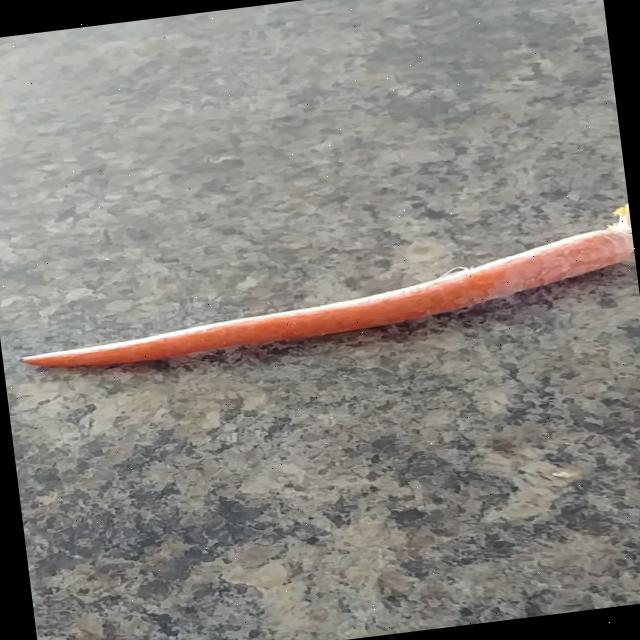carrot: (20, 229, 632, 367)
